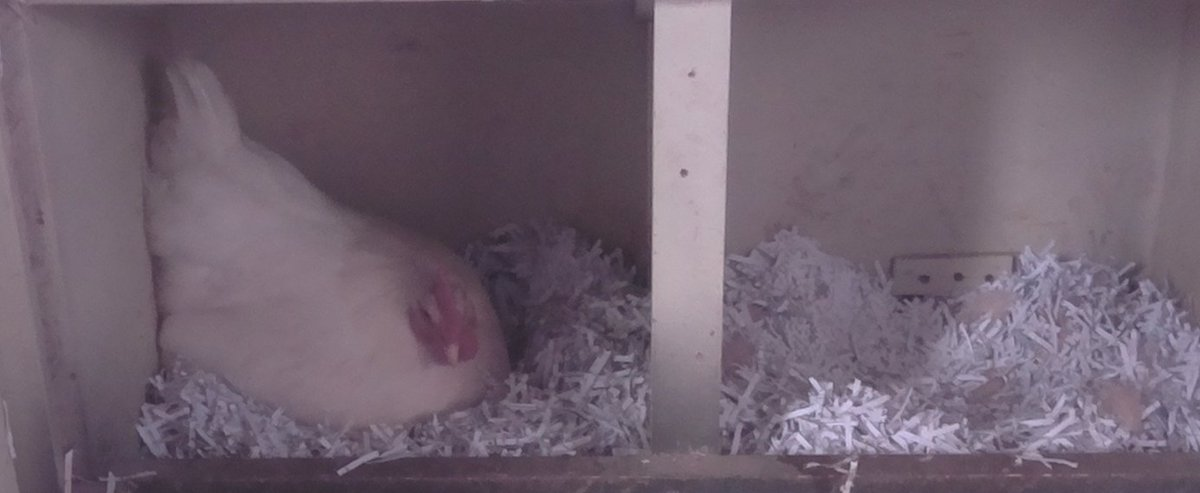hen: (143, 63, 518, 433)
